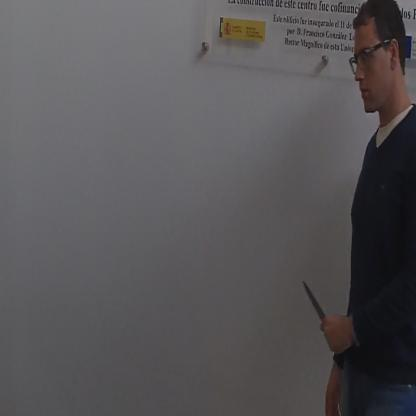knife: (298, 273, 338, 345)
